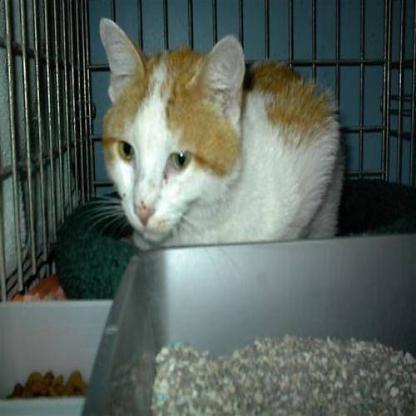cat: (78, 6, 310, 249)
